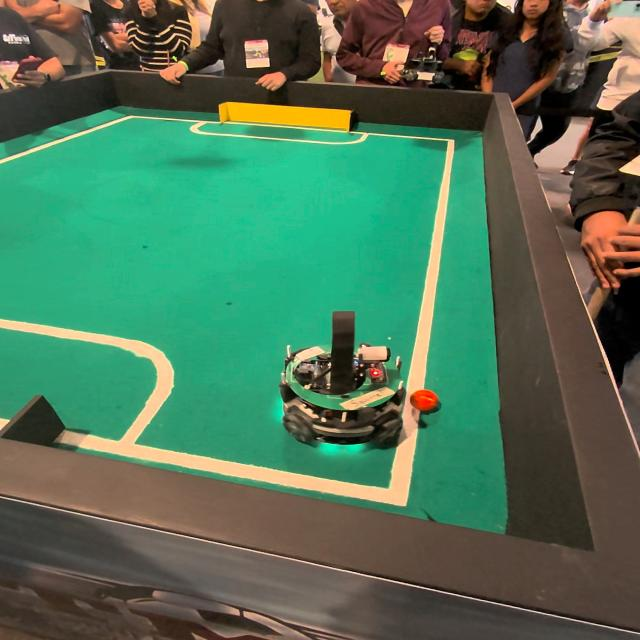Robot: (283, 332, 406, 456)
pelota: (415, 390, 440, 412)
